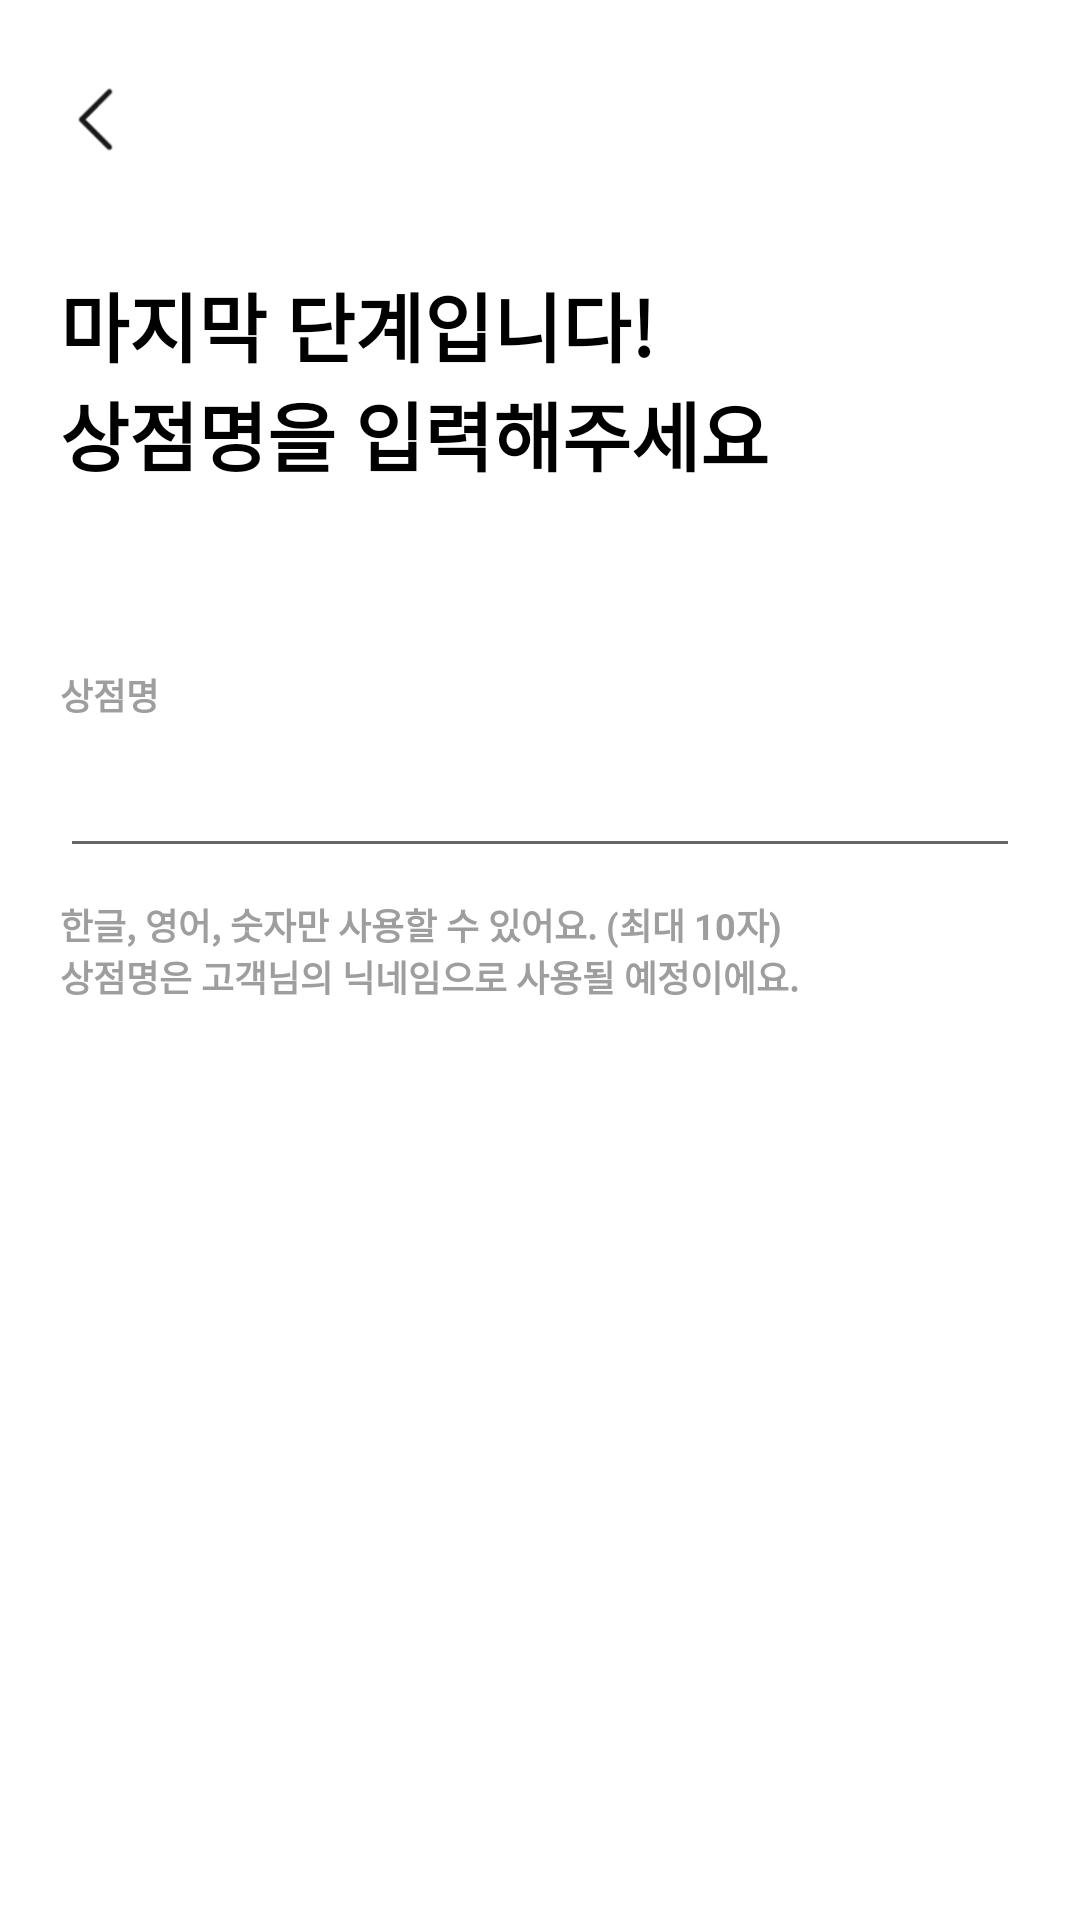

Where icons sit on this 1080*1920 app screen, as (left=x1, top=y1, right=x2, bottom=y2):
left arrow: (left=78, top=88, right=113, bottom=151)
